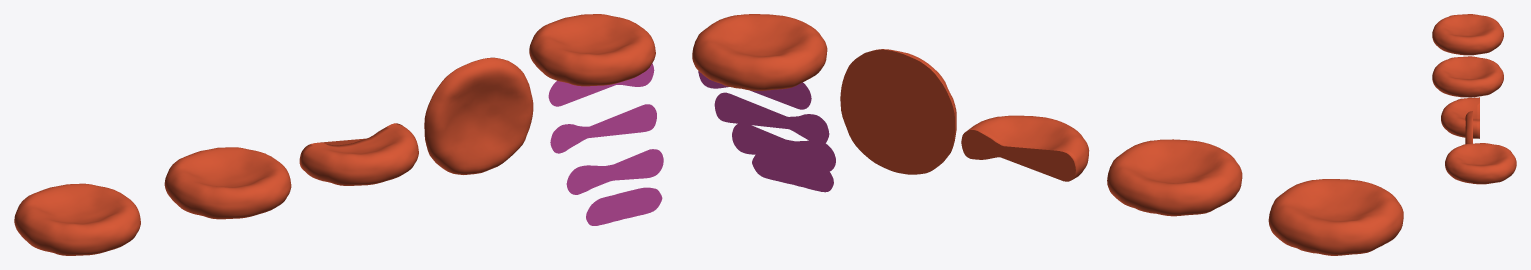
Rendered from rbc4.fbx.
3 renders of one model, left to right at view 1: azimuth 30°, elevation 25°; view 2: azimuth 150°, elevation 25°; view 3: azimuth 270°, elevation 25°, orthographic. The views are drawn at different scales.
Visible parts, largest first — view 1: Cube.004, Cube, Cube.003, Cube.001, Cube.002, Plane.003, Plane.004, Plane.002, Plane; view 2: Cube.004, Cube.003, Cube, Cube.001, Cube.002, Plane.003, Plane.004, Plane.002, Plane; view 3: Cube, Cube.003, Cube.001, Cube.002, Cube.004.
Boxes of the visible parts, bbox=[...] form: Cube.004: bbox=[424, 57, 533, 174]; Cube: bbox=[14, 183, 140, 255]; Cube.003: bbox=[529, 14, 655, 86]; Cube.001: bbox=[164, 147, 291, 219]; Cube.002: bbox=[299, 123, 418, 185]; Plane.003: bbox=[550, 104, 656, 153]; Plane.004: bbox=[566, 149, 663, 194]; Plane.002: bbox=[586, 187, 662, 225]; Plane: bbox=[548, 63, 654, 106]; Cube.004: bbox=[840, 49, 956, 174]; Cube.003: bbox=[692, 14, 827, 90]; Cube: bbox=[1268, 179, 1403, 255]; Cube.001: bbox=[1107, 139, 1242, 216]; Cube.002: bbox=[961, 115, 1089, 181]; Plane.003: bbox=[714, 92, 829, 145]; Plane.004: bbox=[732, 123, 835, 172]; Plane.002: bbox=[752, 155, 833, 192]; Plane: bbox=[698, 71, 811, 109]; Cube: bbox=[1432, 14, 1503, 55]; Cube.003: bbox=[1445, 143, 1516, 184]; Cube.001: bbox=[1432, 56, 1503, 97]; Cube.002: bbox=[1441, 97, 1479, 138]; Cube.004: bbox=[1465, 111, 1472, 144].
Bounding box in the file's own units: 1012 × 259 × 201.
